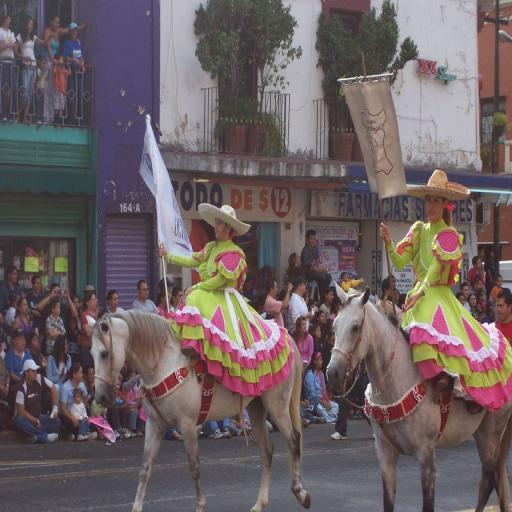Horse: (86, 314, 312, 512), (326, 280, 512, 512)
